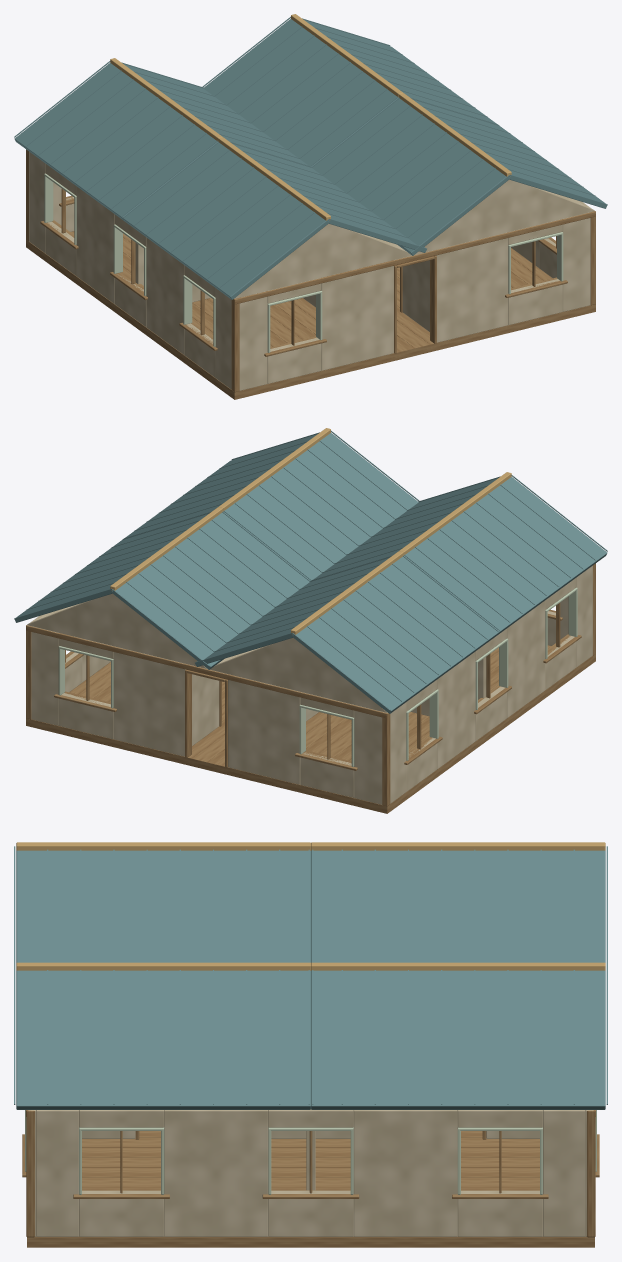
Rendered from residential_wing.glb.
3 renders of one model, top to bottom at view 1: azimuth 30°, elevation 25°; view 2: azimuth 150°, elevation 25°; view 3: azimuth 270°, elevation 25°, orthographic. The views are drawn at different scales.
Parts seen in each view (by area): view 1: Roof_Wing_Section_0_0_-1_001-col, Roof_Wing_Section_0_1_-1_001-col, Roof_Wing_Section_1_0_-1_001-col, Roof_Wing_Section_1_1_-1_001-col, Wing_Floor_001-col, Wing_SouthExterior_pier_003-col, Wing_SouthExterior_pier_002-col, Roof_Wing_Gable_0_-5.9-col, Roof_Wing_Gable_1_-5.9-col, Roof_Wing_Section_1_0_1_001-col, Roof_Wing_Section_0_0_1_001-col, Roof_Wing_Section_1_1_1_001-col (+22 smaller); view 2: Roof_Wing_Section_0_1_-1_001-col, Roof_Wing_Section_0_0_-1_001-col, Roof_Wing_Section_1_1_-1_001-col, Roof_Wing_Section_1_0_-1_001-col, Wing_Floor_001-col, Wing_NorthExterior_pier_002-col, Wing_NorthExterior_pier_003-col, Roof_Wing_Gable_0_5.9-col, Roof_Wing_Gable_1_5.9-col, Roof_Wing_Section_1_1_1_001-col, Roof_Wing_Section_0_1_1_001-col, Roof_Wing_Section_1_0_1_001-col (+22 smaller); view 3: Roof_Wing_Section_1_0_1_001-col, Roof_Wing_Section_1_1_1_001-col, Roof_Wing_Section_0_0_1_001-col, Roof_Wing_Section_0_1_1_001-col, Wing_Floor_001-col, Wing_SideExterior_pier_006-col, Wing_SideExterior_pier_007-col, Wing_SideExterior_pier_005-col, Wing_SideExterior_pier_008-col, Wing_SideExterior_below_005-col, Wing_SideExterior_below_004-col, Wing_SideExterior_below_006-col (+13 smaller).
Part boxes in pixels (bbox=[...]): Roof_Wing_Section_0_0_-1_001-col: bbox=[122, 142, 328, 299]; Roof_Wing_Section_0_1_-1_001-col: bbox=[14, 63, 217, 220]; Roof_Wing_Section_1_0_-1_001-col: bbox=[312, 98, 509, 255]; Roof_Wing_Section_1_1_-1_001-col: bbox=[203, 19, 398, 166]; Wing_Floor_001-col: bbox=[26, 231, 595, 399]; Wing_SouthExterior_pier_003-col: bbox=[436, 232, 508, 342]; Wing_SouthExterior_pier_002-col: bbox=[321, 265, 393, 370]; Roof_Wing_Gable_0_-5.9-col: bbox=[234, 223, 411, 298]; Roof_Wing_Gable_1_-5.9-col: bbox=[414, 179, 594, 254]; Roof_Wing_Section_1_0_1_001-col: bbox=[413, 99, 607, 208]; Roof_Wing_Section_0_0_1_001-col: bbox=[233, 144, 426, 252]; Roof_Wing_Section_1_1_1_001-col: bbox=[304, 20, 496, 123]; Roof_Wing_Section_0_1_-1_001-col: bbox=[293, 556, 499, 713]; Roof_Wing_Section_0_0_-1_001-col: bbox=[404, 477, 607, 634]; Roof_Wing_Section_1_1_-1_001-col: bbox=[112, 512, 309, 669]; Roof_Wing_Section_1_0_-1_001-col: bbox=[223, 433, 418, 580]; Wing_Floor_001-col: bbox=[26, 645, 595, 813]; Wing_NorthExterior_pier_002-col: bbox=[228, 674, 300, 784]; Wing_NorthExterior_pier_003-col: bbox=[113, 646, 185, 756]; Roof_Wing_Gable_0_5.9-col: bbox=[210, 637, 387, 712]; Roof_Wing_Gable_1_5.9-col: bbox=[27, 593, 207, 668]; Roof_Wing_Section_1_1_1_001-col: bbox=[14, 513, 208, 622]; Roof_Wing_Section_0_1_1_001-col: bbox=[195, 558, 388, 666]; Roof_Wing_Section_1_0_1_001-col: bbox=[125, 434, 317, 537]; Roof_Wing_Section_1_0_1_001-col: bbox=[16, 970, 310, 1109]; Roof_Wing_Section_1_1_1_001-col: bbox=[311, 970, 605, 1109]; Roof_Wing_Section_0_0_1_001-col: bbox=[16, 850, 310, 962]; Roof_Wing_Section_0_1_1_001-col: bbox=[311, 850, 605, 962]; Wing_Floor_001-col: bbox=[27, 1131, 594, 1247]; Wing_SideExterior_pier_006-col: bbox=[164, 1110, 268, 1236]; Wing_SideExterior_pier_007-col: bbox=[353, 1110, 457, 1236]; Wing_SideExterior_pier_005-col: bbox=[36, 1110, 78, 1236]; Wing_SideExterior_pier_008-col: bbox=[543, 1110, 585, 1236]; Wing_SideExterior_below_005-col: bbox=[268, 1190, 353, 1236]; Wing_SideExterior_below_004-col: bbox=[79, 1190, 164, 1236]; Wing_SideExterior_below_006-col: bbox=[457, 1190, 542, 1236].
Bounding box in the file's own units: 12.53 × 5.21 × 12.55.
6 materials, 3 textured.
